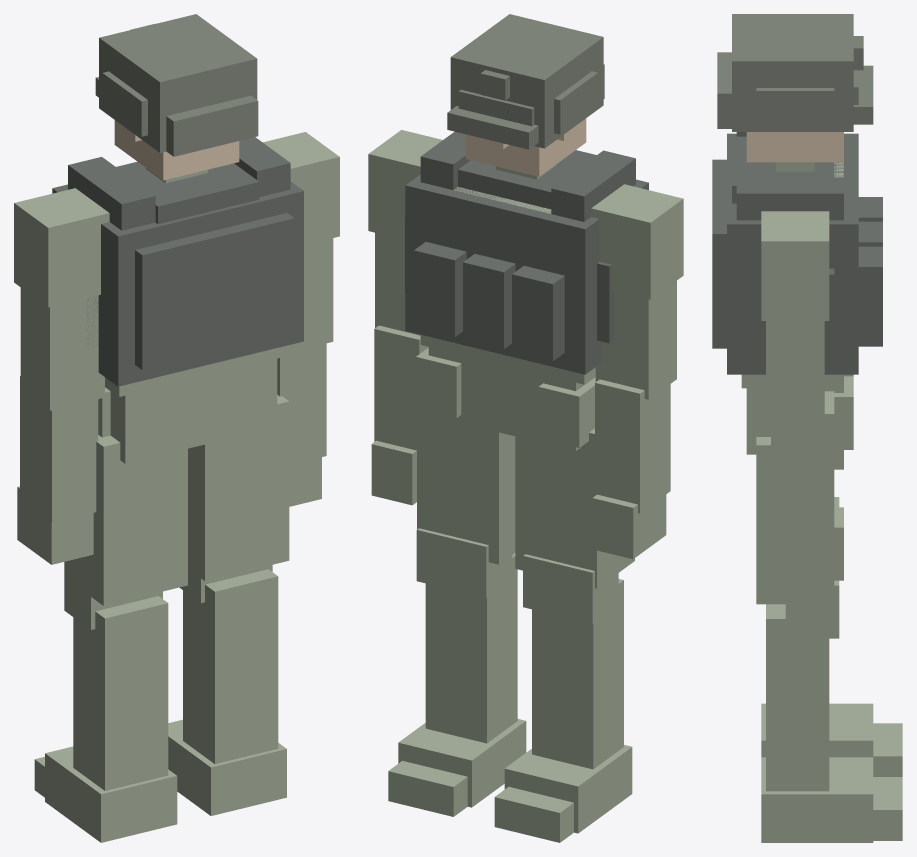
Rendered from ashpier-enemy.glb.
3 renders of one model, left to right at view 1: azimuth 30°, elevation 25°; view 2: azimuth 150°, elevation 25°; view 3: azimuth 270°, elevation 25°, orthographic. The views are drawn at different scales.
Parts seen in each view (by area): view 1: Body, Vest, Helmet, Head; view 2: Body, Vest, Helmet, Head; view 3: Body, Vest, Helmet, Head.
Boxes of the visible parts, box(x1,y1,x2,y2) form: Body: box(14, 132, 339, 842); Vest: box(52, 137, 303, 386); Helmet: box(95, 14, 258, 156); Head: box(114, 120, 239, 180); Body: box(368, 130, 683, 842); Vest: box(405, 131, 648, 374); Helmet: box(447, 14, 604, 149); Head: box(465, 118, 586, 176); Body: box(741, 162, 902, 842); Vest: box(712, 132, 882, 374); Helmet: box(717, 14, 873, 131); Head: box(746, 132, 843, 162).
Bounding box in the file's own units: 0.69 × 1.72 × 0.39.
